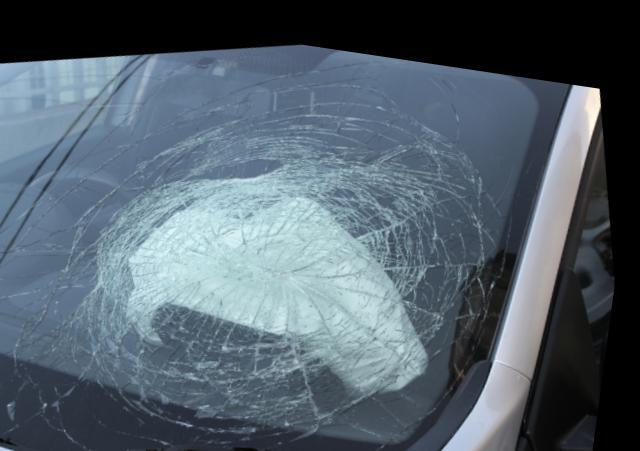glass shatter: (0, 35, 568, 451)
